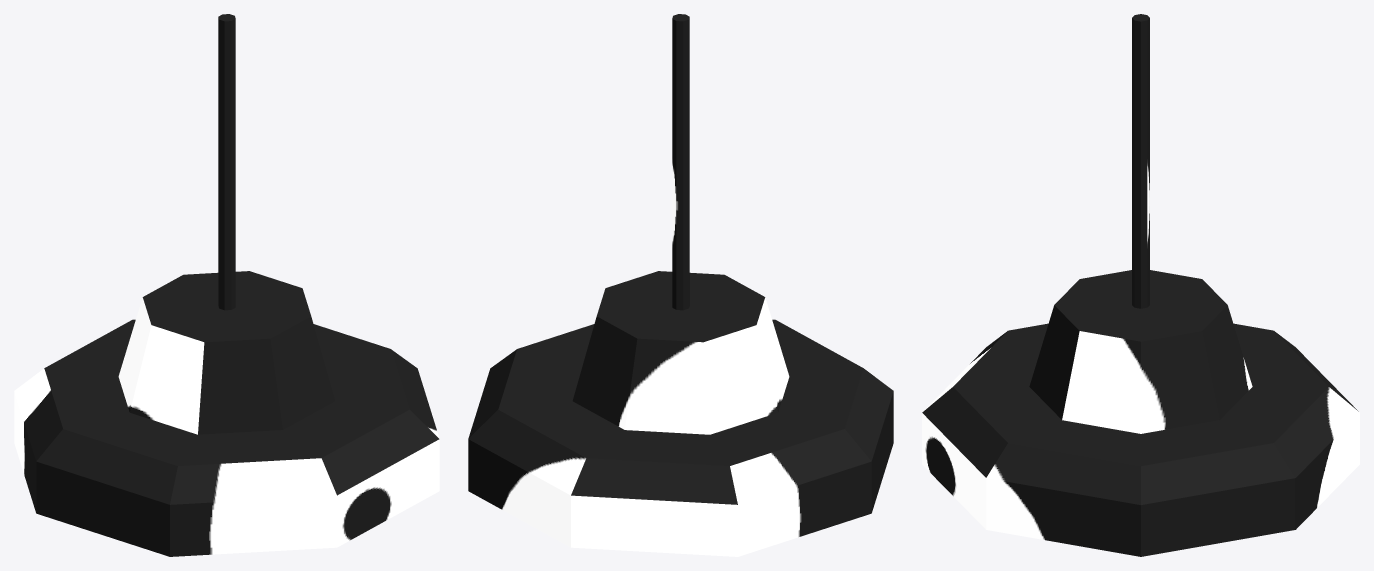
Rendered from Lamp.fbx.
The picture shows the model from 3 angles, left to right: view 1: azimuth 30°, elevation 25°; view 2: azimuth 150°, elevation 25°; view 3: azimuth 270°, elevation 25°; orthographic projection.
Parts seen in each view (by area): view 1: Low Poly Lamp; view 2: Low Poly Lamp; view 3: Low Poly Lamp.
Boxes of the visible parts, <box> form: Low Poly Lamp: <box>14,14,439,556</box>; Low Poly Lamp: <box>468,14,893,556</box>; Low Poly Lamp: <box>922,14,1359,556</box>.
Bounding box in the file's own units: 82.69 × 93.1 × 82.69.
